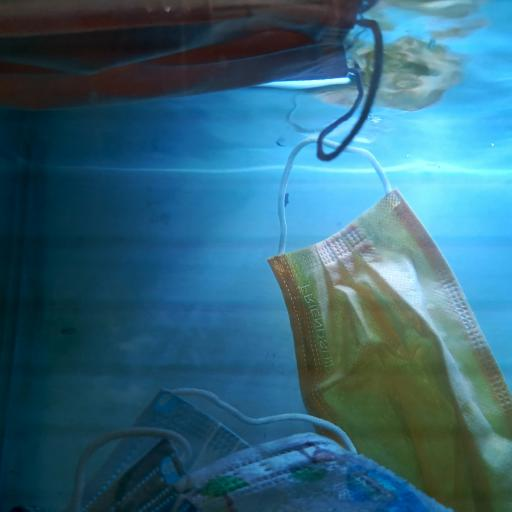mask: (266, 135, 512, 512), (2, 0, 384, 163), (63, 383, 358, 512), (169, 429, 454, 512)
